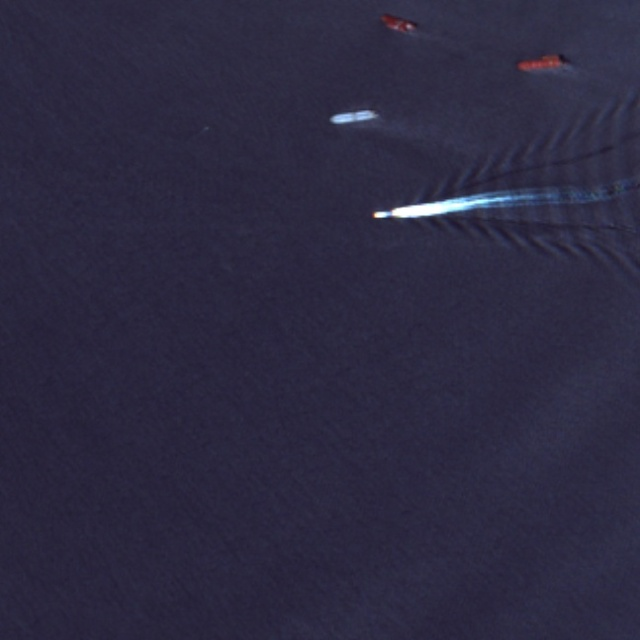wake: (360, 141, 563, 264)
